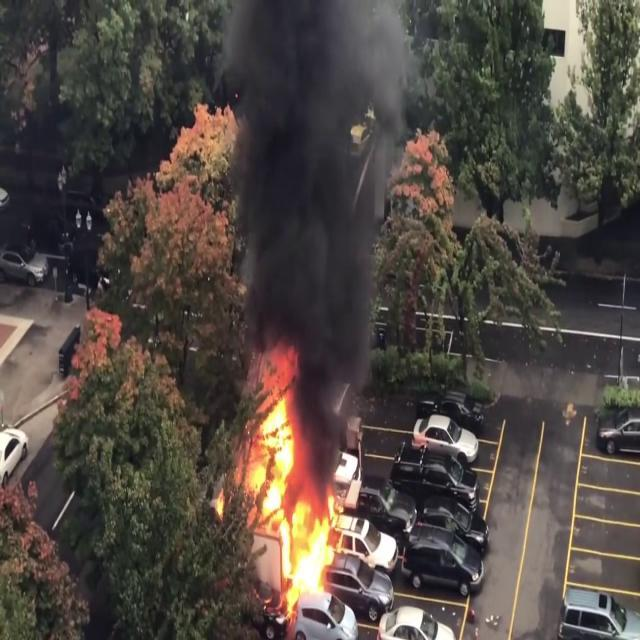Fire: (240, 365, 348, 611)
Smoke: (217, 0, 406, 419)
